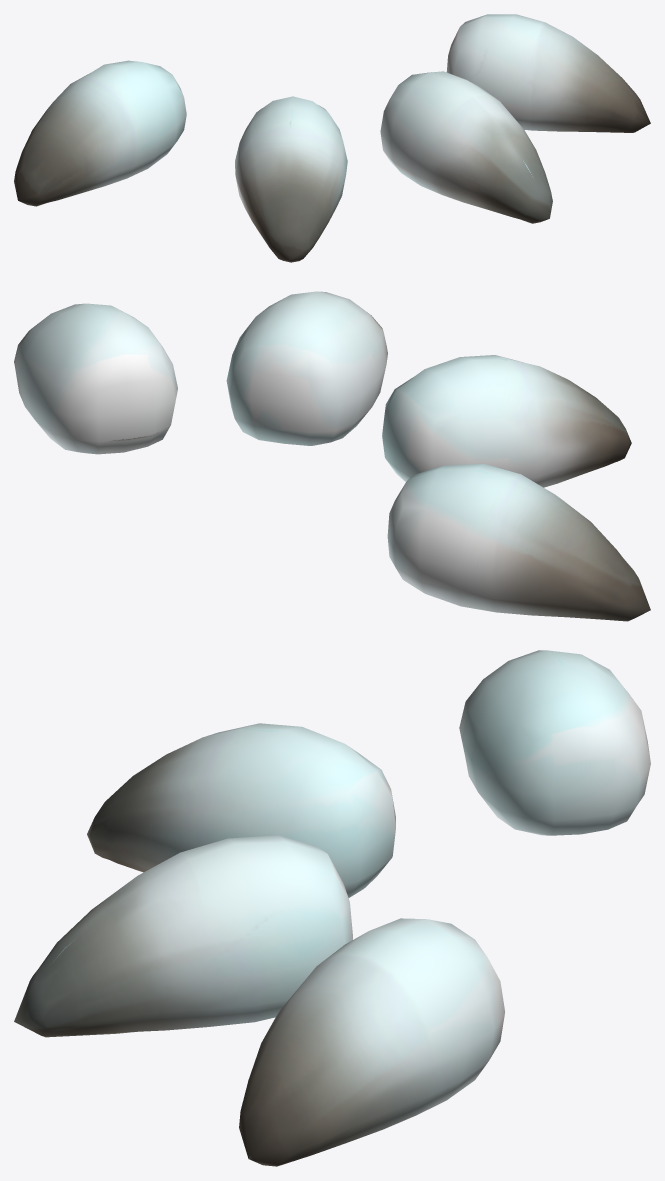
Rendered from garrasd2.obj.
3 views of the same model, one above another, from view 1: azimuth 30°, elevation 25°; view 2: azimuth 150°, elevation 25°; view 3: azimuth 270°, elevation 25° (orthographic). The views are drawn at different scales.
Parts seen in each view (by area): view 1: garrasd21; view 2: garrasd21; view 3: garrasd21.
Part boxes in pixels (<box>): garrasd21: <box>14,14,650,262</box>; garrasd21: <box>14,291,650,621</box>; garrasd21: <box>14,650,650,1166</box>.
Bounding box in the file's own units: 0.0656 × 0.0116 × 0.0402.
1 material, 1 textured.
